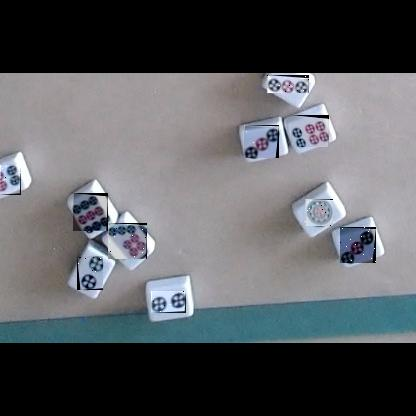1p: (305, 199, 333, 226)
2p: (77, 256, 103, 290), (151, 291, 186, 313)
3p: (340, 227, 376, 263), (244, 125, 279, 158), (267, 75, 309, 93)
6p: (291, 115, 329, 147), (0, 165, 21, 195)
7p: (108, 223, 147, 259)
9p: (73, 193, 108, 231)
